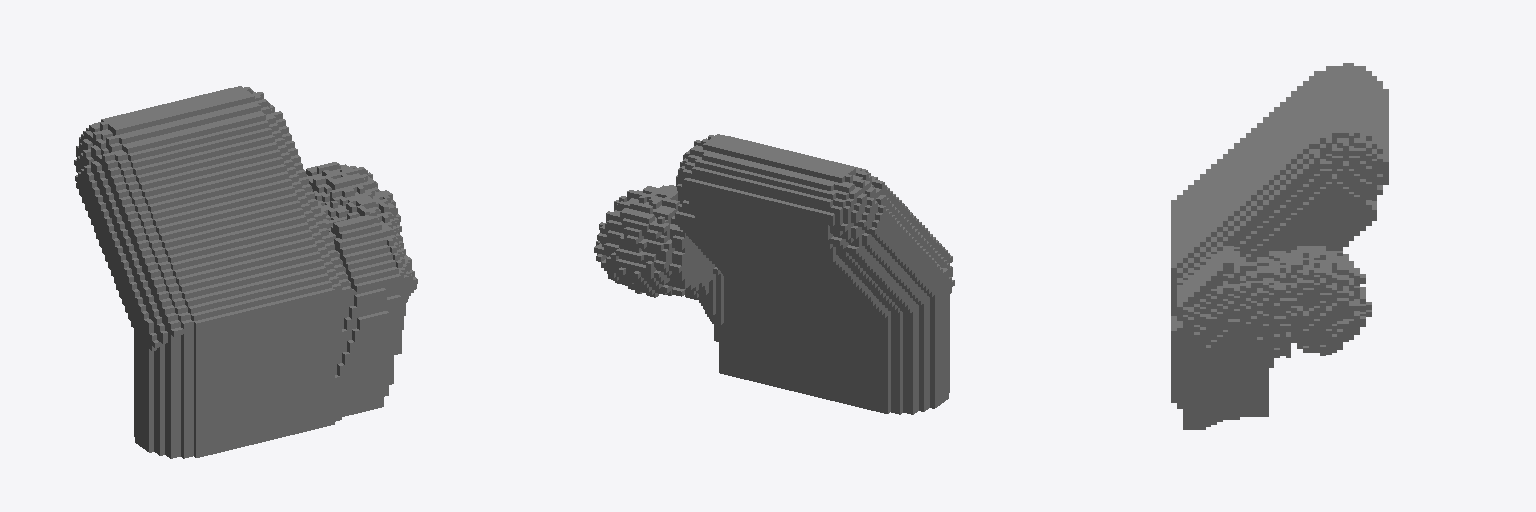
The picture shows the model from 3 angles: view 1: azimuth 30°, elevation 25°; view 2: azimuth 150°, elevation 25°; view 3: azimuth 270°, elevation 25°; orthographic projection.
Parts seen in each view (by area): view 1: object 1; view 2: object 1; view 3: object 1.
Boxes of the visible parts, <box> form: object 1: <box>74,86,417,458</box>; object 1: <box>594,134,954,414</box>; object 1: <box>1171,63,1388,429</box>.
Size of the model in its own units: 5.8 by 5.2 by 3.8.
Materials: 1 (1 with a texture image).